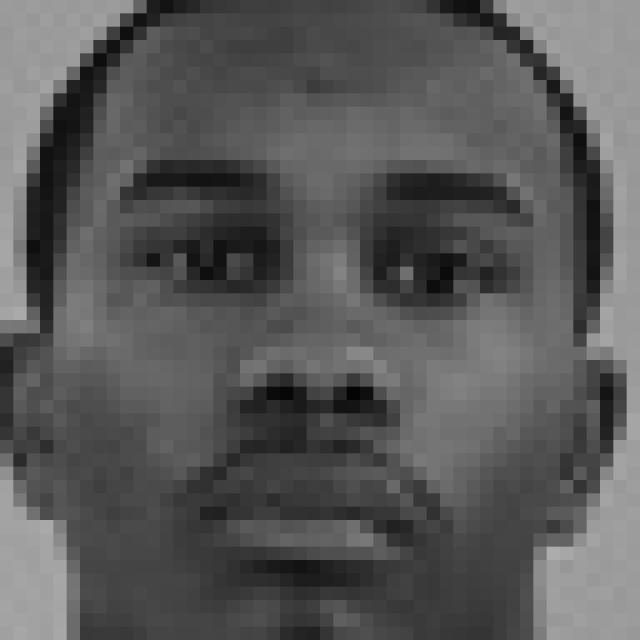neutral: (115, 149, 538, 585)
